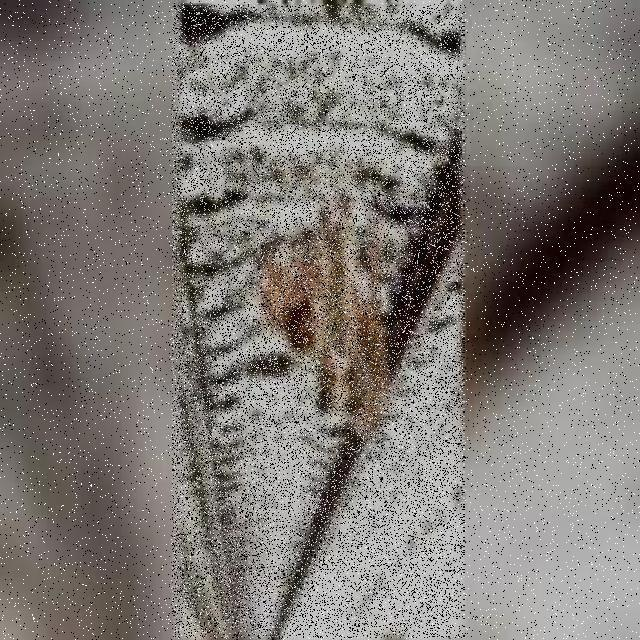rail: (173, 7, 465, 639)
